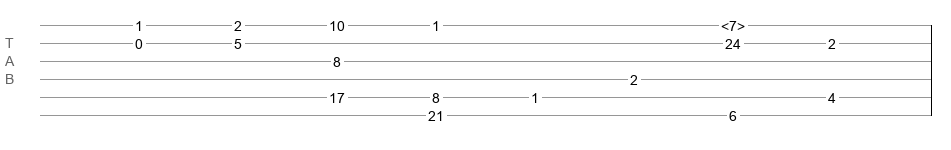0: (135, 36, 143, 46)
1: (135, 18, 143, 28), (432, 18, 440, 28), (531, 90, 539, 100)
10: (329, 18, 345, 28)
17: (329, 90, 345, 100)
2: (234, 18, 242, 28), (630, 72, 638, 82), (828, 36, 836, 46)
21: (428, 108, 444, 118)
24: (725, 36, 741, 46)
4: (828, 90, 836, 100)
5: (234, 36, 242, 46)
6: (729, 108, 737, 118)
8: (333, 54, 341, 64), (432, 90, 440, 100)
harmonic: (721, 18, 745, 28)
